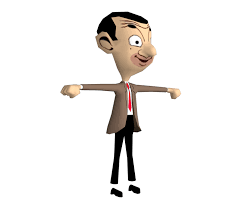mrbean: (53, 11, 172, 195)
